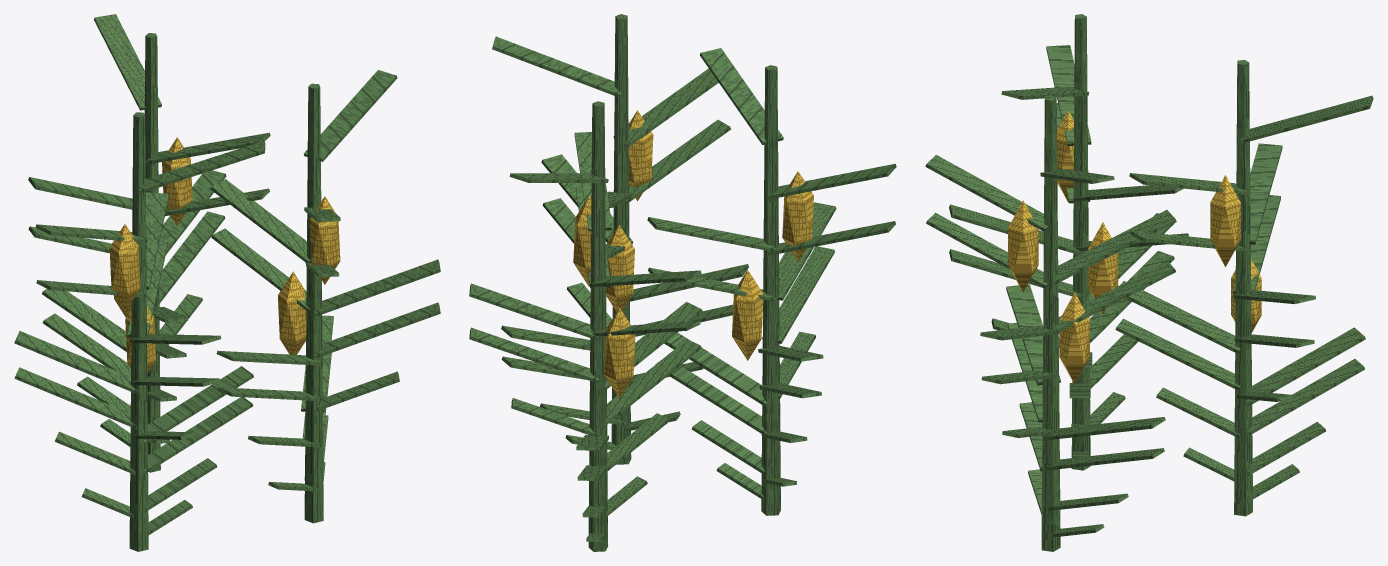
Rendered from crop-corn.glb.
3 views of the same model, side by side, from view 1: azimuth 30°, elevation 25°; view 2: azimuth 150°, elevation 25°; view 3: azimuth 270°, elevation 25° (orthographic). The views are drawn at different scales.
Visible parts, largest first — view 1: stage-3, stage-2, stage-1, stage-0; view 2: stage-3, stage-2, stage-1, stage-0; view 3: stage-3, stage-2, stage-1, stage-0.
Boxes of the visible parts, x1,y1,x2,y2 form: stage-3: (14, 14, 440, 551); stage-2: (14, 188, 440, 473); stage-1: (55, 294, 399, 512); stage-0: (81, 419, 325, 534); stage-3: (469, 14, 896, 551); stage-2: (469, 119, 895, 481); stage-1: (511, 282, 815, 517); stage-0: (565, 411, 797, 541); stage-3: (925, 14, 1373, 551); stage-2: (926, 103, 1364, 470); stage-1: (991, 318, 1325, 510); stage-0: (1028, 392, 1299, 537).
Bounding box in the file's own units: 1.49 × 1.65 × 1.49.
Materials: 1 (1 with a texture image).
